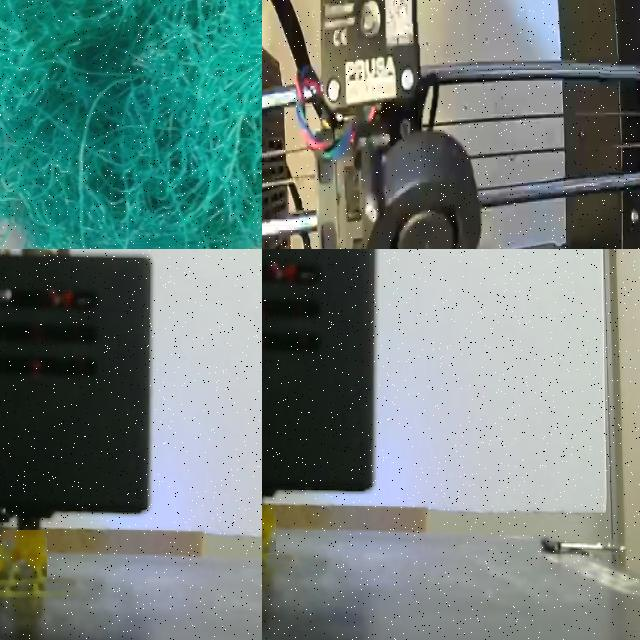spaghetti: (0, 0, 262, 249), (0, 530, 47, 589)
